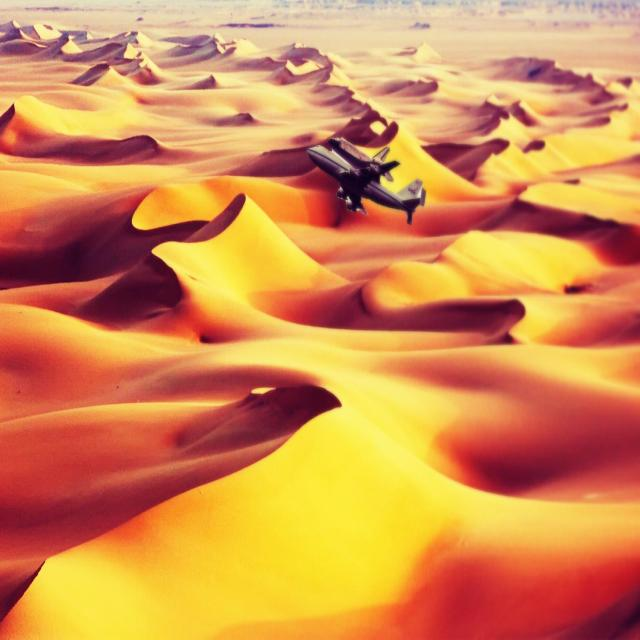airplane: (306, 134, 426, 225)
